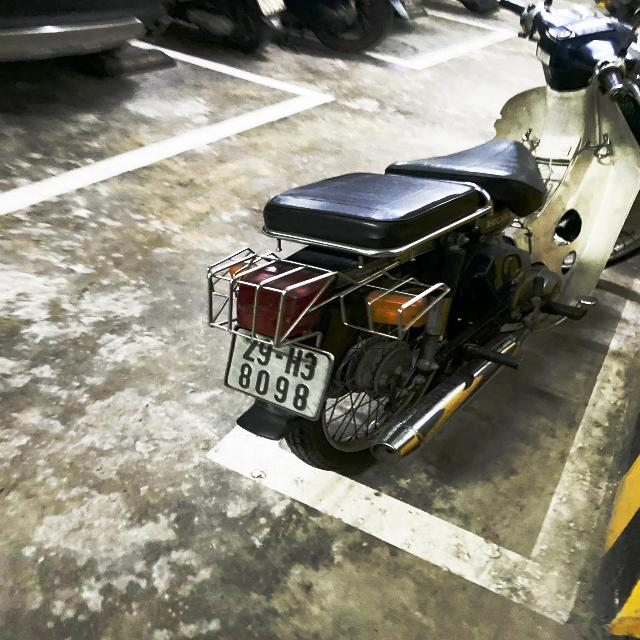license_plate: (225, 325, 337, 419)
